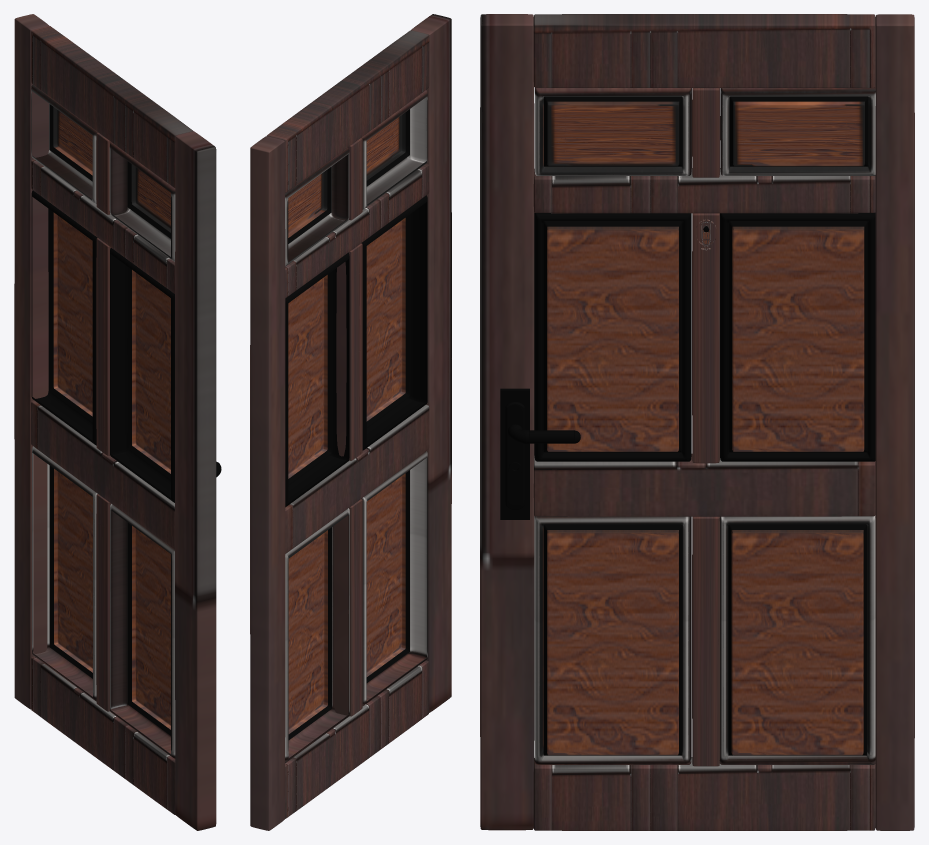
Rendered from puerta.obj.
3 views of the same model, side by side, from view 1: azimuth 30°, elevation 25°; view 2: azimuth 150°, elevation 25°; view 3: azimuth 270°, elevation 25° (orthographic). The views are drawn at different scales.
Parts seen in each view (by area): view 1: polySurface138; view 2: polySurface138; view 3: polySurface138.
Part boxes in pixels (<box>): polySurface138: <box>14,14,221,830</box>; polySurface138: <box>250,14,451,830</box>; polySurface138: <box>480,14,914,830</box>.
Bounding box in the file's own units: 2.09 × 31.71 × 15.48.
Materials: 3 (2 with a texture image).
